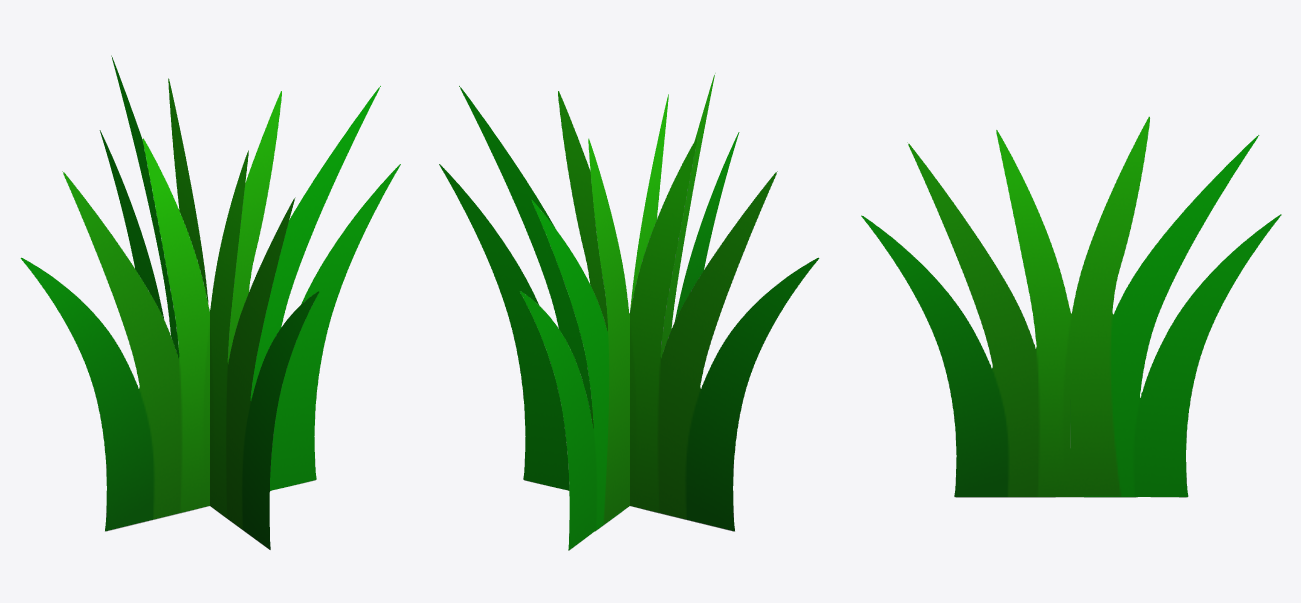
The model's file is Grass.fbx.
3 views of the same model, side by side, from view 1: azimuth 30°, elevation 25°; view 2: azimuth 150°, elevation 25°; view 3: azimuth 270°, elevation 25° (orthographic). The views are drawn at different scales.
Visible parts, largest first — view 1: Plane; view 2: Plane; view 3: Plane.
Part boxes in pixels (bbox=[...]): Plane: bbox=[20, 55, 400, 549]; Plane: bbox=[439, 73, 819, 550]; Plane: bbox=[861, 116, 1281, 497].
Size of the model in its own units: 160 by 160 by 160.
Materials: 1 (1 with a texture image).
